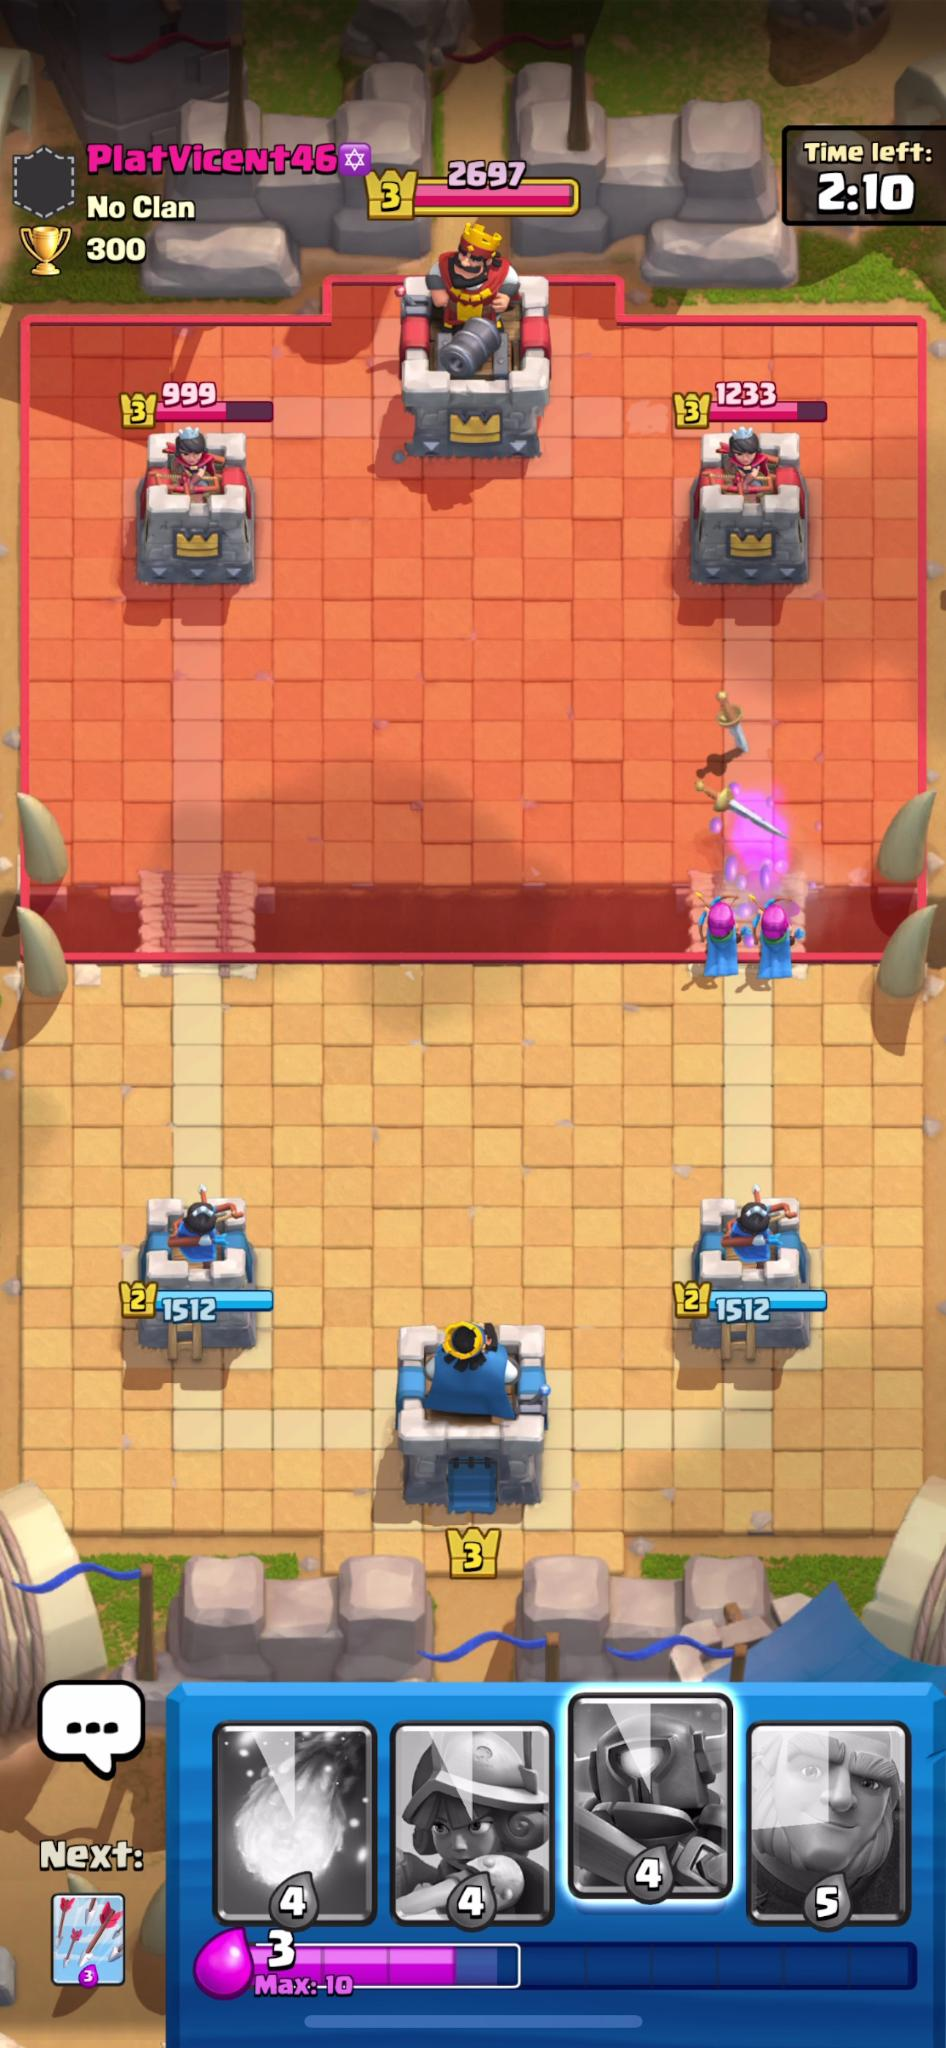archere: (753, 893, 809, 986), (691, 888, 749, 977)
